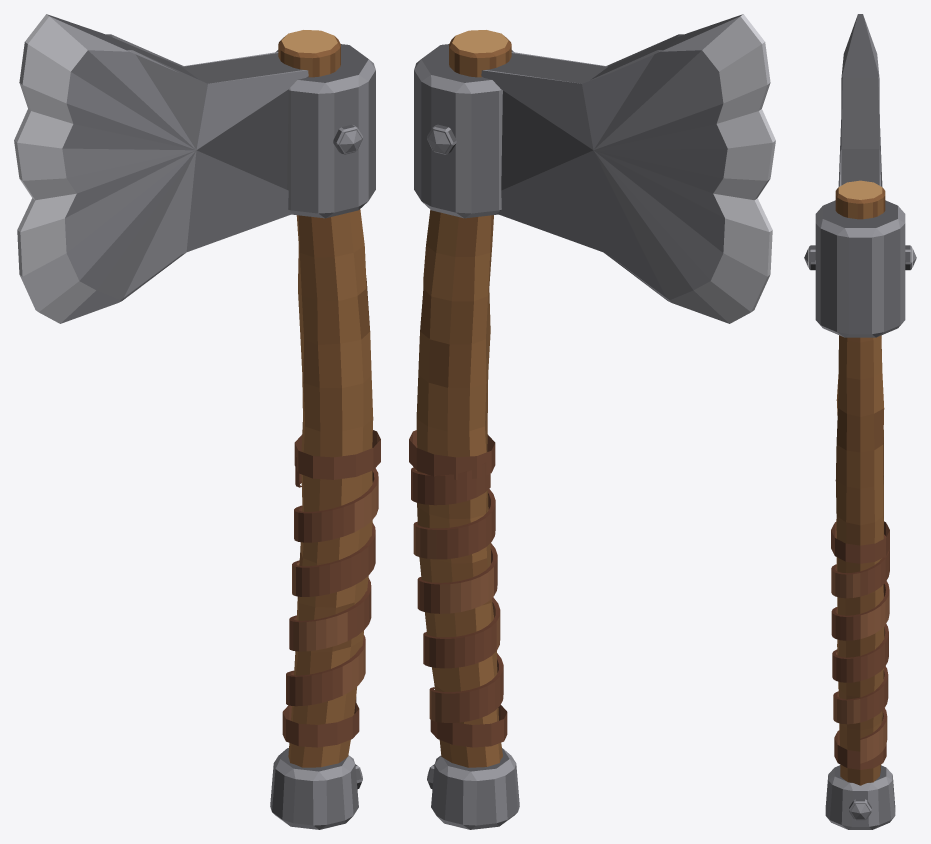
File: Axe.fbx
3 views of the same model, side by side, from view 1: azimuth 30°, elevation 25°; view 2: azimuth 150°, elevation 25°; view 3: azimuth 270°, elevation 25° (orthographic). The views are drawn at different scales.
Parts seen in each view (by area): view 1: Axe; view 2: Axe; view 3: Axe.
Boxes of the visible parts, bbox=[...] form: Axe: bbox=[14, 14, 380, 829]; Axe: bbox=[409, 14, 775, 829]; Axe: bbox=[804, 14, 916, 829].
Size of the model in its own units: 0.3352 by 0.765 by 0.112.
